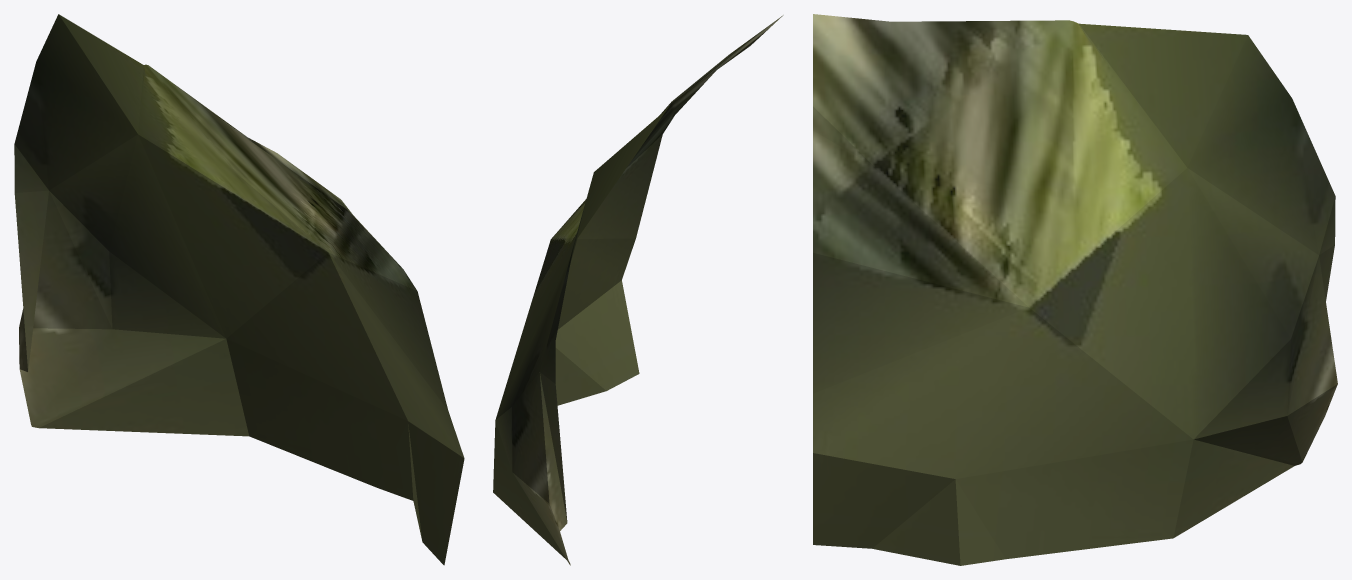
3 renders of one model, left to right at view 1: azimuth 30°, elevation 25°; view 2: azimuth 150°, elevation 25°; view 3: azimuth 270°, elevation 25°, orthographic. The views are drawn at different scales.
Bounding box in the file's own units: 0.8702 × 1.79 × 1.9.
1 material, 1 textured.
